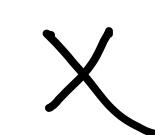mult: (41, 25, 154, 135)
